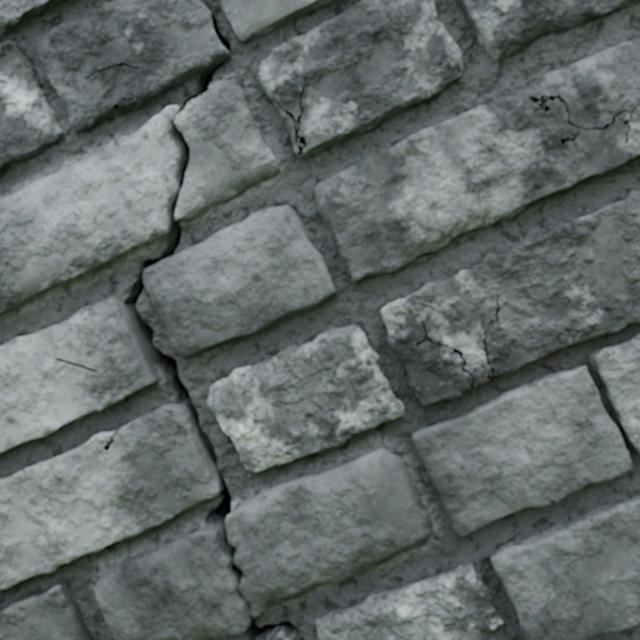broken_brick: (0, 72, 280, 315), (94, 446, 432, 639)
crack: (0, 118, 336, 590), (315, 38, 639, 282), (380, 190, 639, 406), (412, 366, 632, 538), (255, 0, 462, 159), (207, 325, 404, 472), (38, 0, 238, 131), (491, 496, 639, 639), (315, 562, 507, 639), (455, 0, 639, 61), (0, 41, 63, 173), (589, 334, 639, 455), (0, 582, 93, 639), (219, 0, 340, 42), (0, 0, 66, 38), (243, 616, 304, 639), (14, 280, 63, 304), (127, 243, 138, 250), (239, 590, 243, 597)
